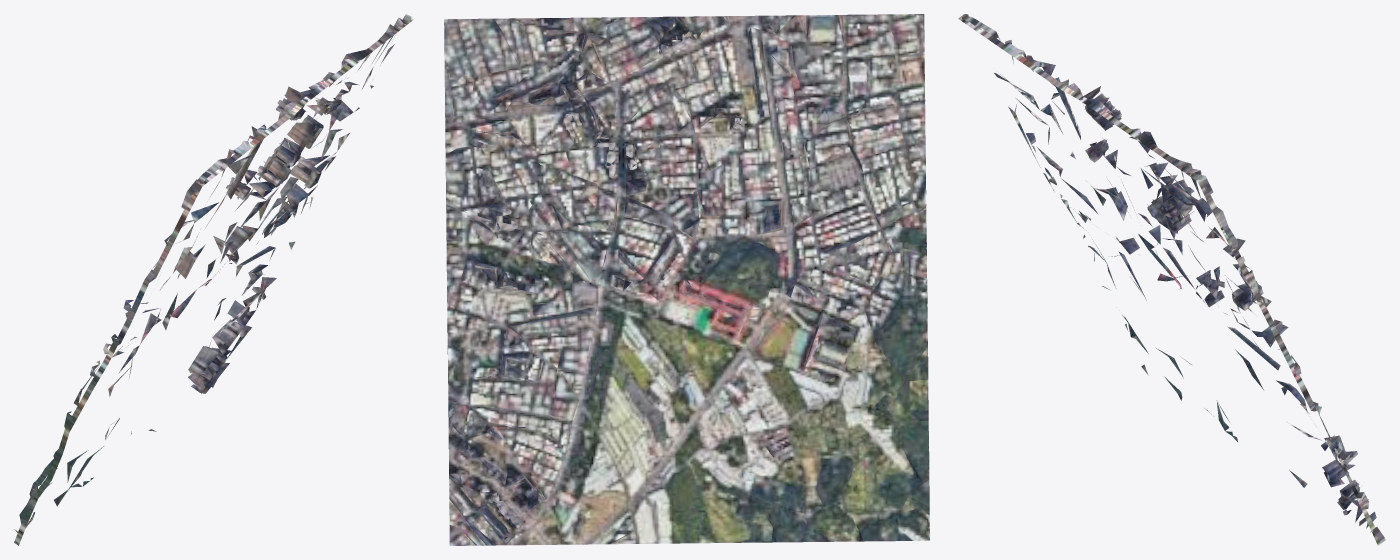
3 views of the same model, side by side, from view 1: azimuth 30°, elevation 25°; view 2: azimuth 150°, elevation 25°; view 3: azimuth 270°, elevation 25° (orthographic). The views are drawn at different scales.
Bounding box in the file's own units: 1222 × 1131 × 1041.
2 materials, 2 textured.
